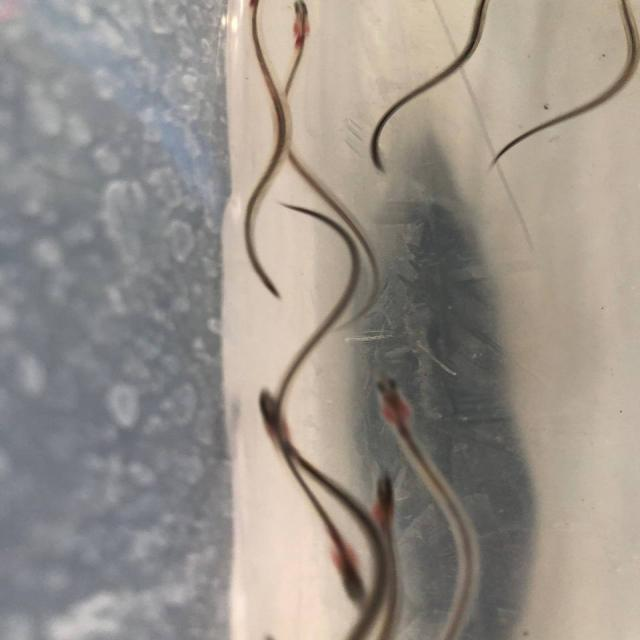glass_eel: (359, 368, 433, 430), (316, 544, 389, 604), (242, 382, 308, 446), (351, 462, 417, 520), (276, 0, 325, 54)
